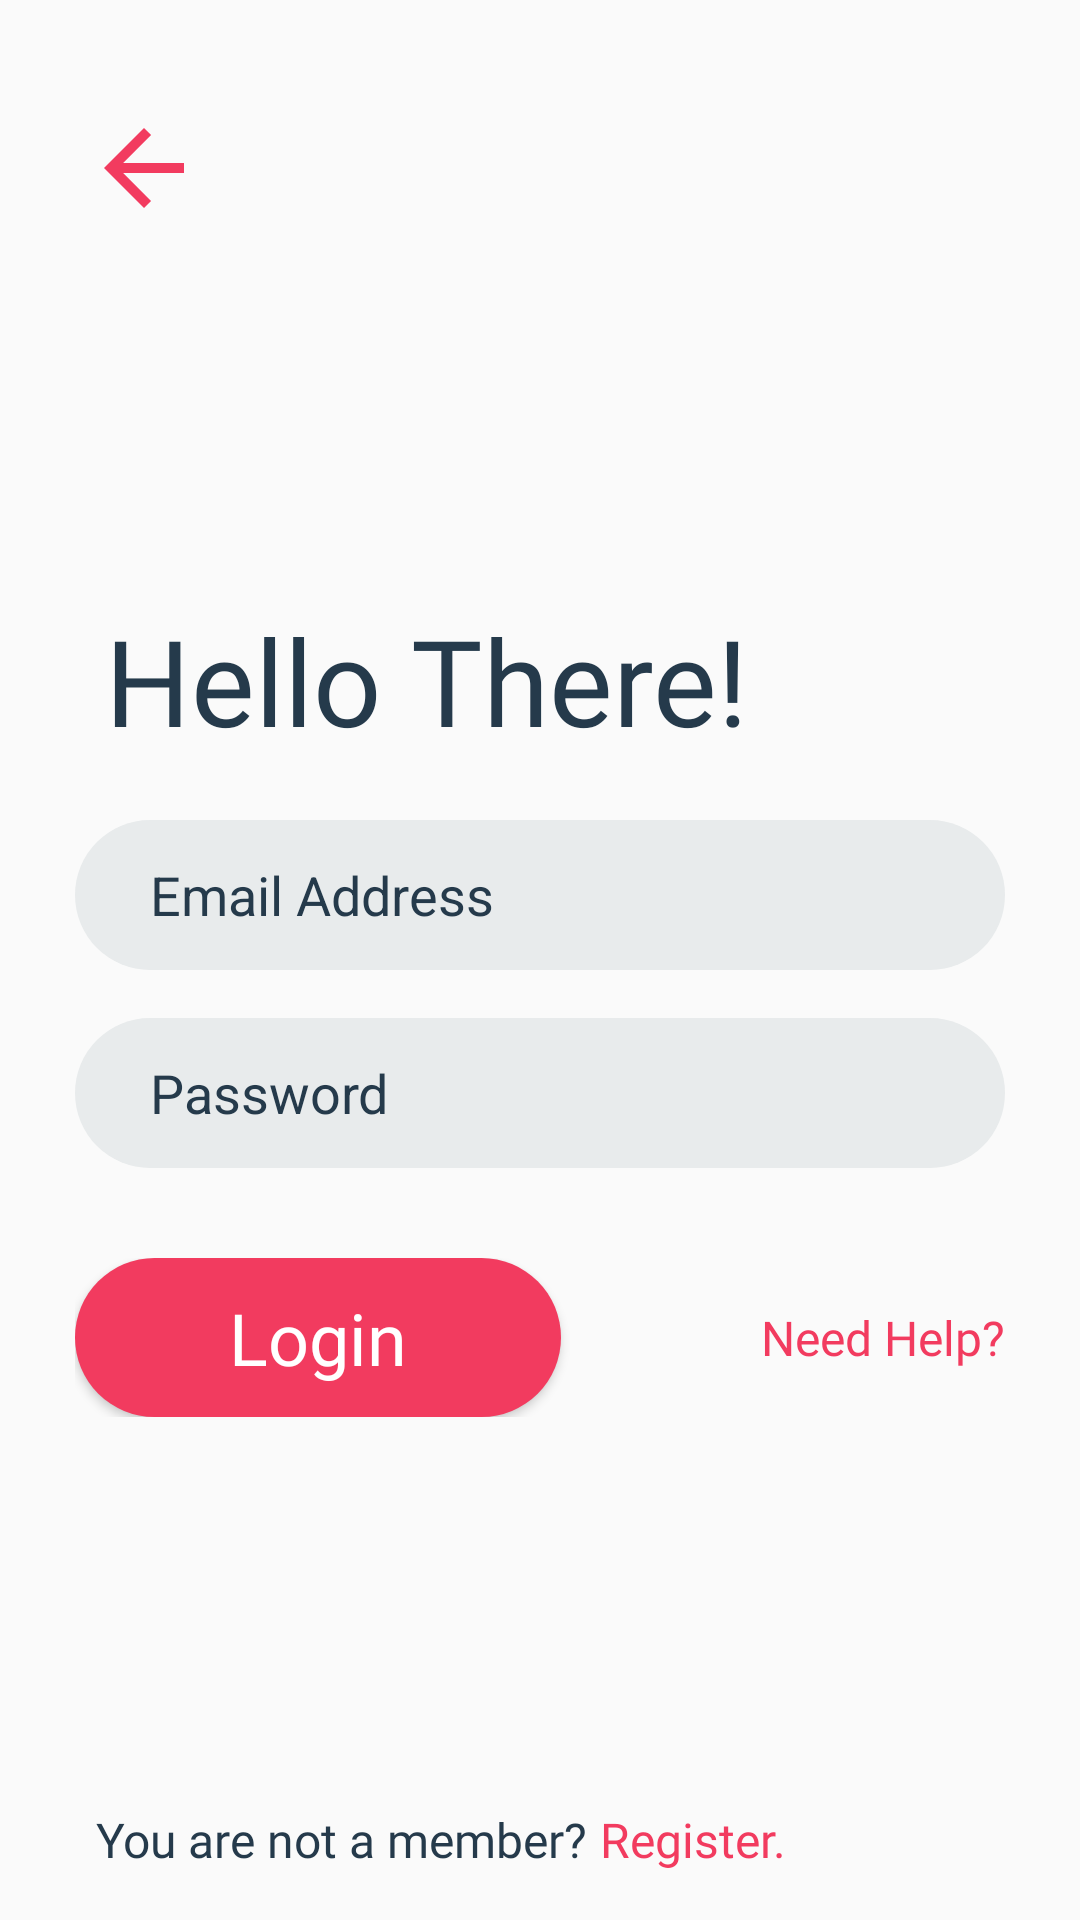

Icons on this 1080×1920 Android screen, each with the point to tap as (x,y):
back arrow: (144,168)
